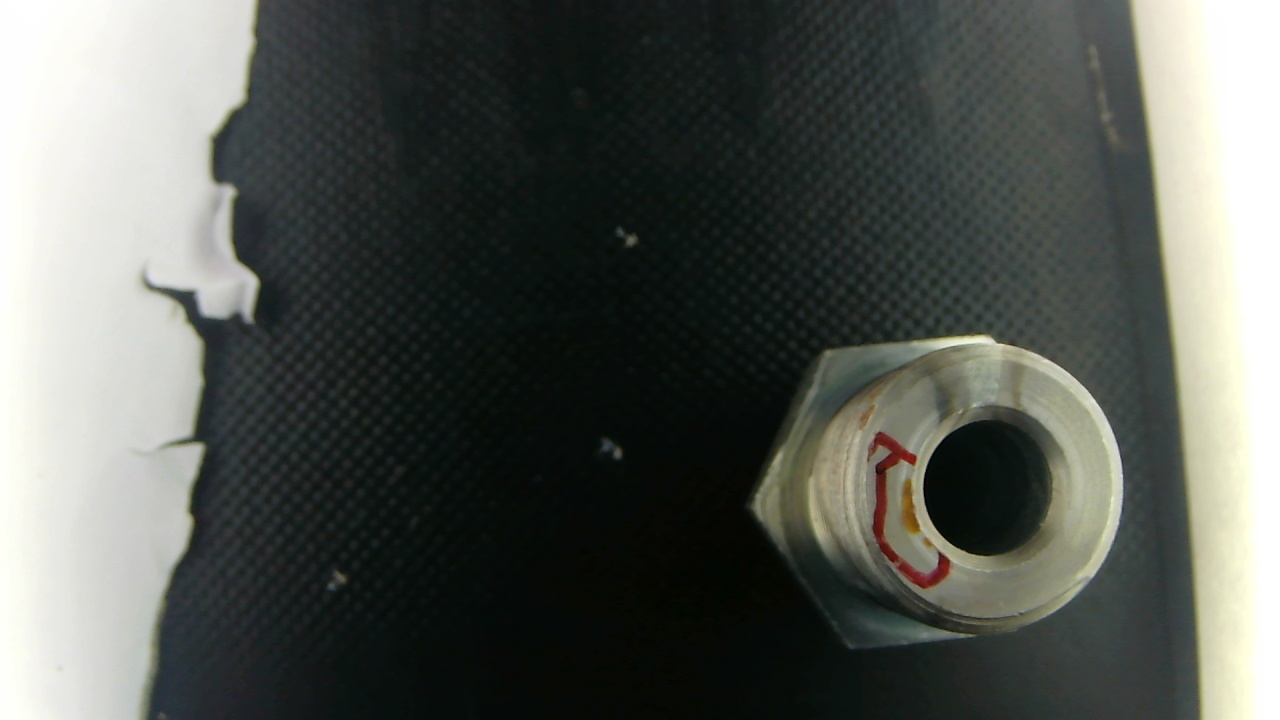blackpatch: (982, 334, 1040, 435)
